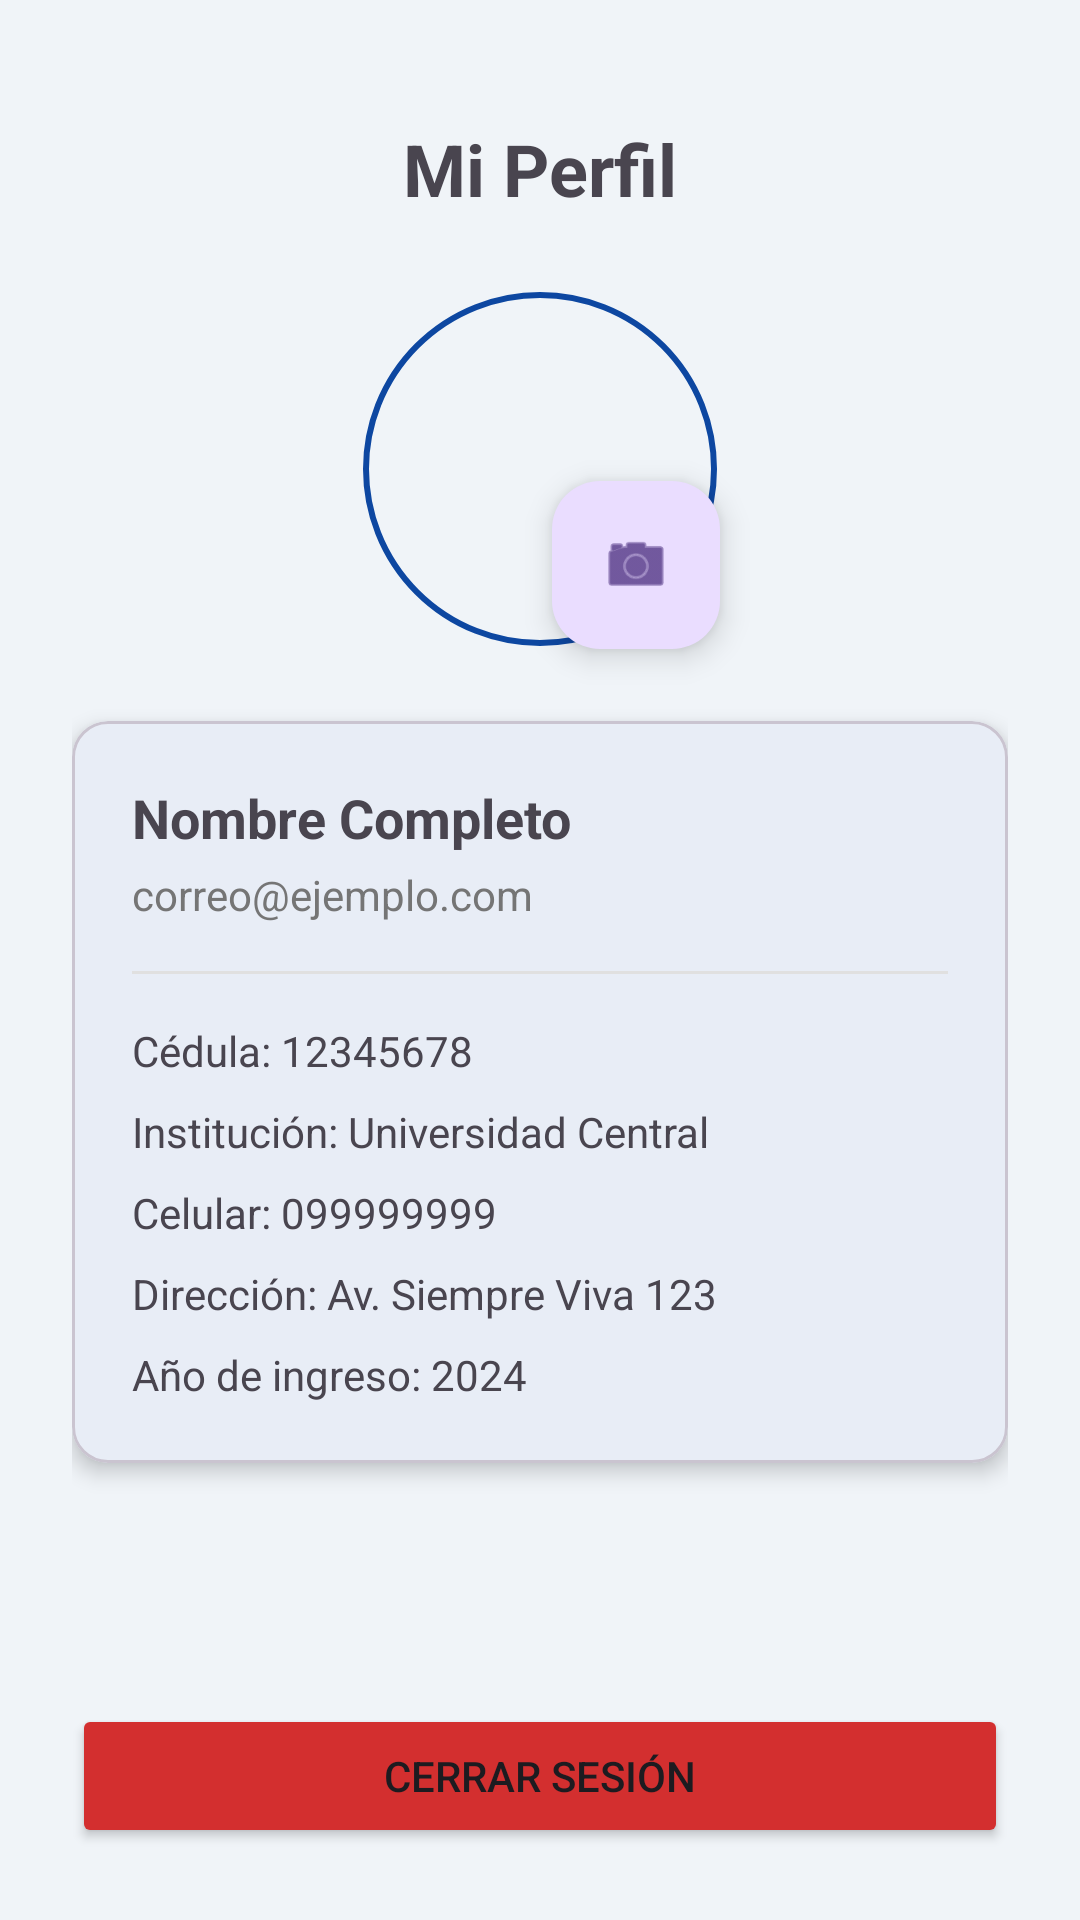

Icons on this 1080*1920 Android screen, each with its box as [left=x1, top=y1, right=x2, bottom=y2]:
camera: [left=608, top=542, right=664, bottom=586]
